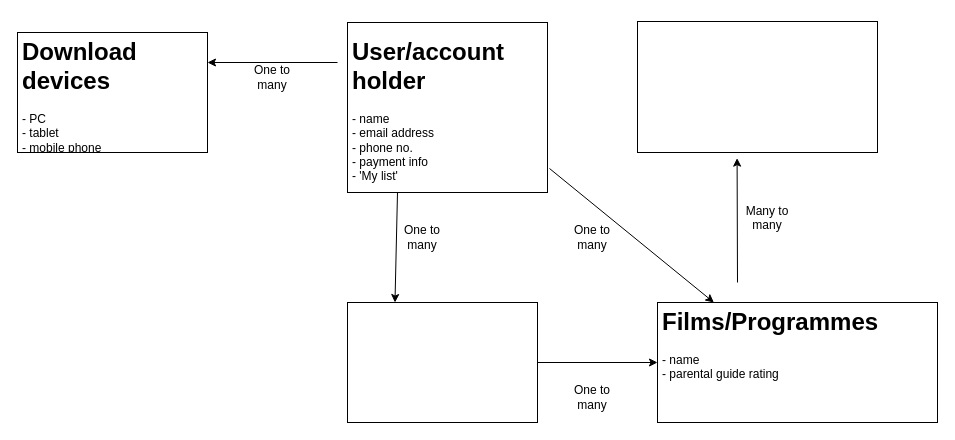
Some shapes in this 955 by 440 pixel diagram are drawn without their labels. Each missing label, with the centre of its shape:
"Categories - comedy - sci-fi - horror - drama" belongs at point (757, 86).
"Profiles - name - chosen language - parental controls - 'My list'" belongs at point (442, 362).
